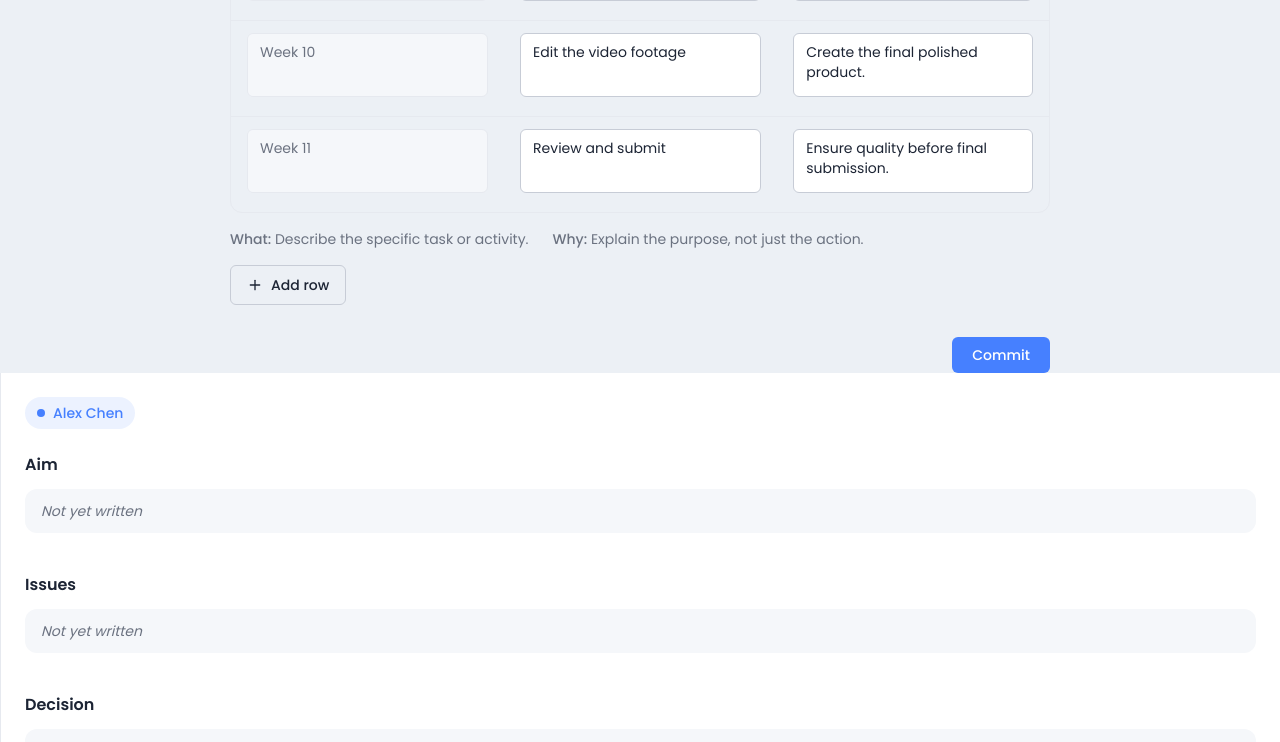
Test case: SlideScaffold — freeform-table mode › the Action Plan panel shows Implementation table text after commit
(page scrolled)
What coordinates should you click on to do the following:
click the button "Commit"
I would click on:
 (1001, 355)
Its box is top-left (952, 337), bottom-right (1050, 373).
(page scrolled)
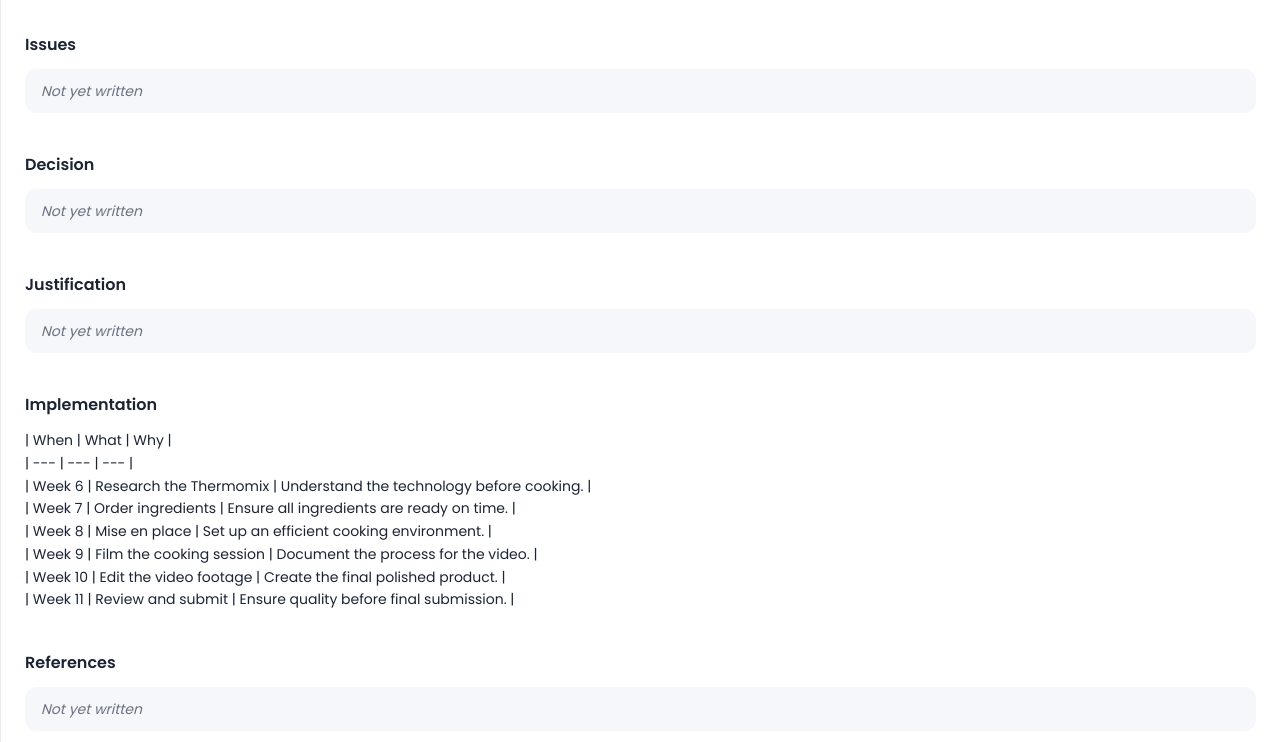
expect the text "Research the Thermomix" is shown: met, box top-left (25, 430), bottom-right (591, 609)
